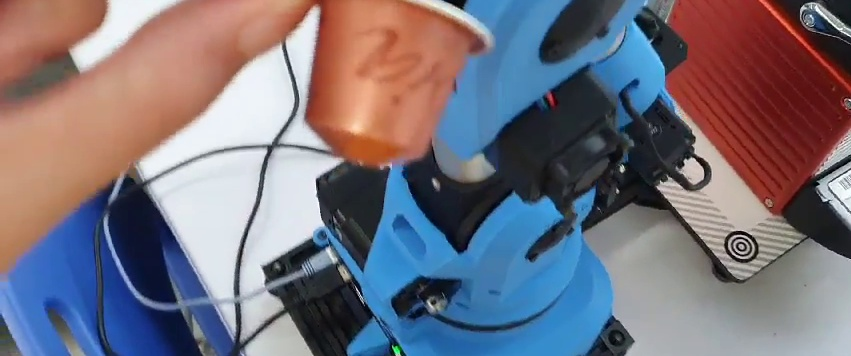capsule_6: (299, 1, 495, 166)
